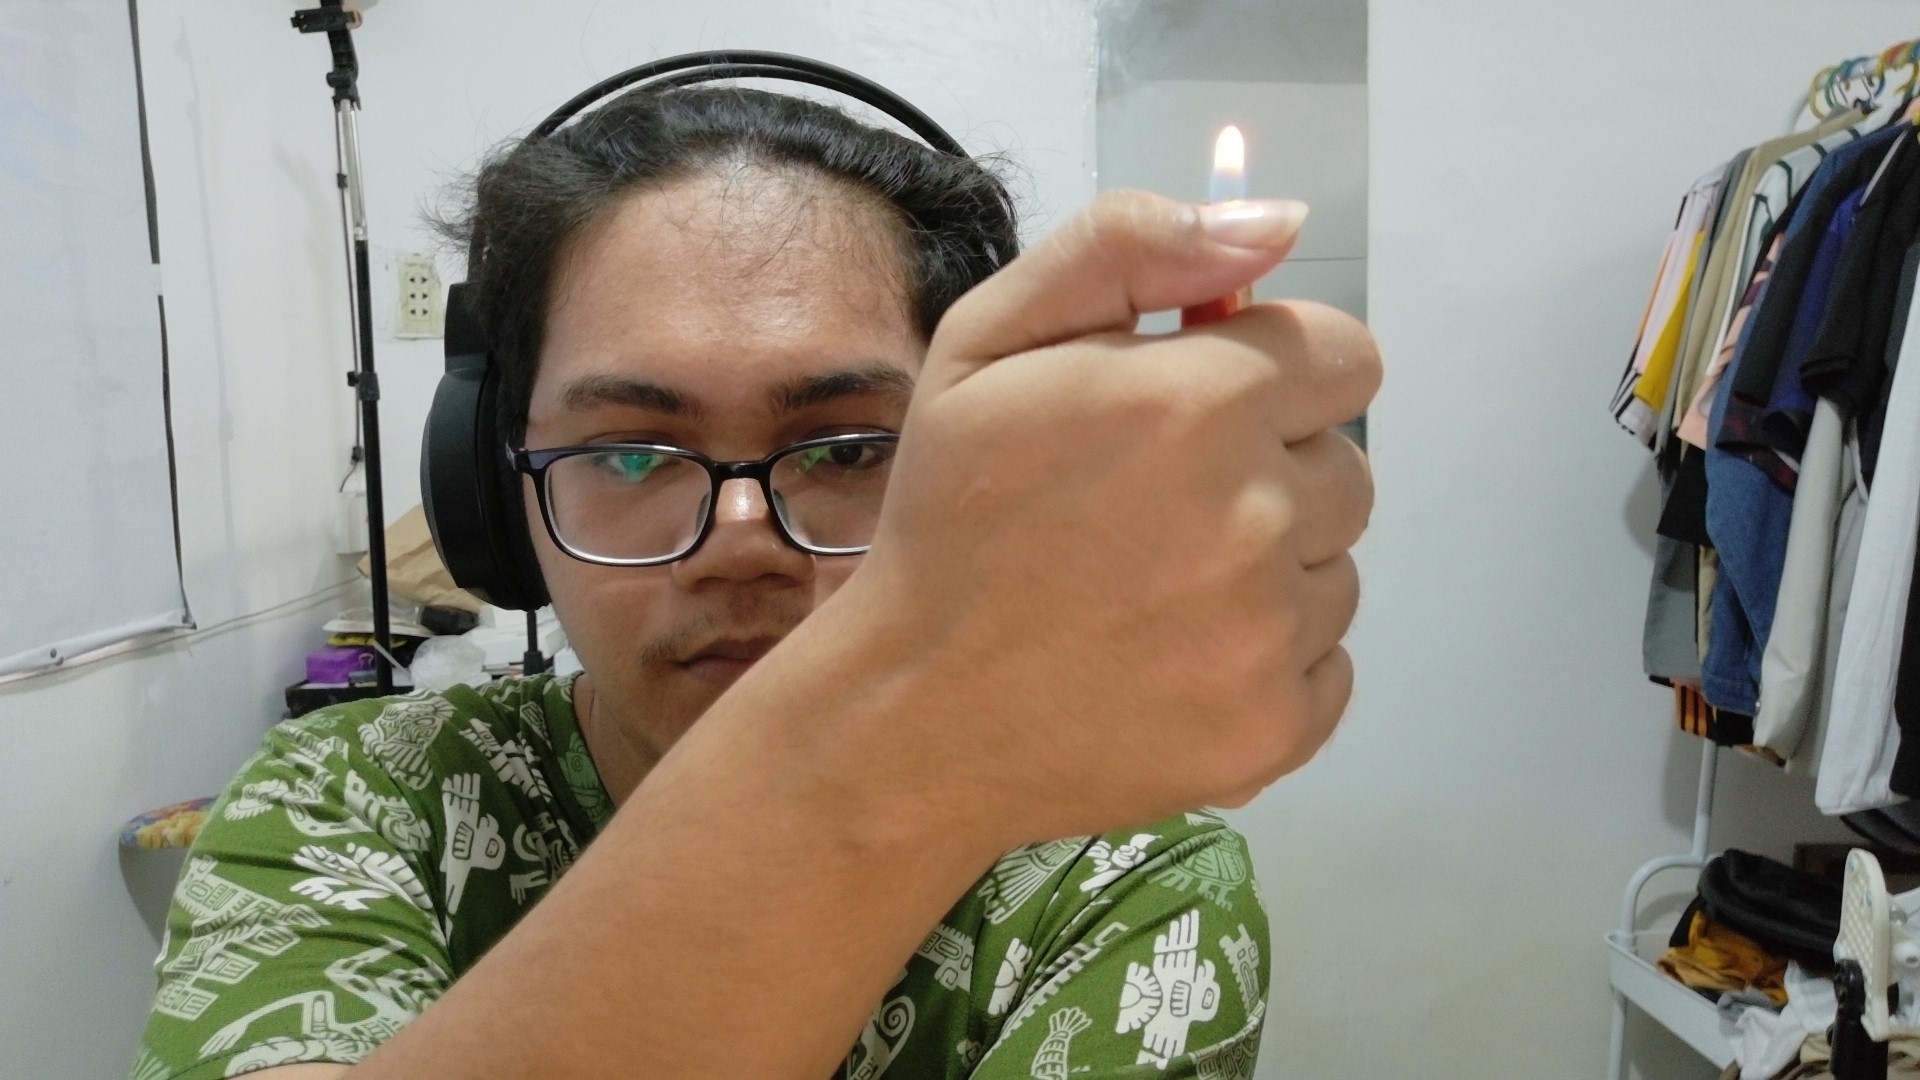fire: (1185, 77, 1285, 235)
